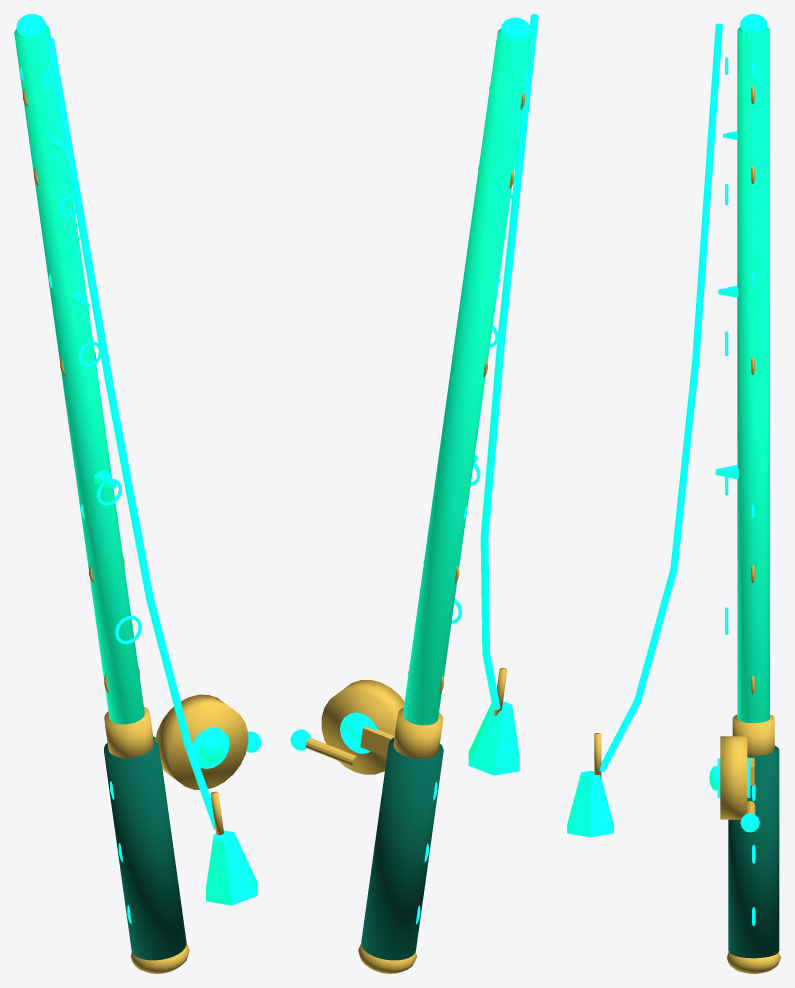
File: emeraldrod.fbx
3 views of the same model, side by side, from view 1: azimuth 30°, elevation 25°; view 2: azimuth 150°, elevation 25°; view 3: azimuth 270°, elevation 25° (orthographic). The views are drawn at different scales.
Parts seen in each view (by area): view 1: Emerald_Rod_Clean_One_Piece; view 2: Emerald_Rod_Clean_One_Piece; view 3: Emerald_Rod_Clean_One_Piece.
Boxes of the visible parts, box(x1,y1,x2,y2) form: Emerald_Rod_Clean_One_Piece: box(14, 14, 261, 973); Emerald_Rod_Clean_One_Piece: box(290, 14, 538, 973); Emerald_Rod_Clean_One_Piece: box(567, 14, 780, 973).
Size of the model in its own units: 70.22 by 273 by 59.
